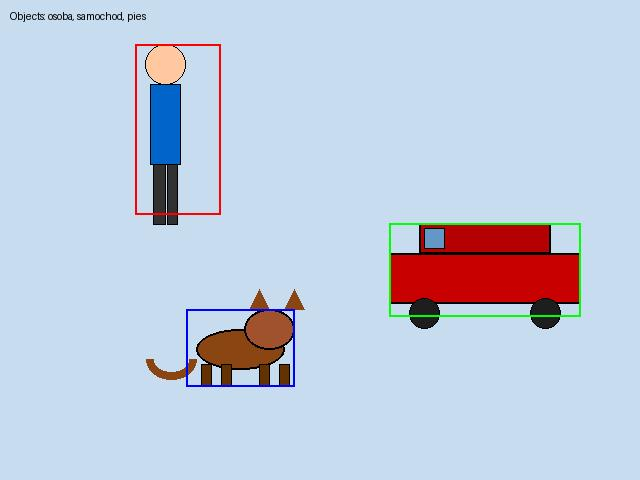osoba: (135, 44, 220, 214)
pies: (186, 309, 294, 386)
samochod: (389, 223, 580, 316)
